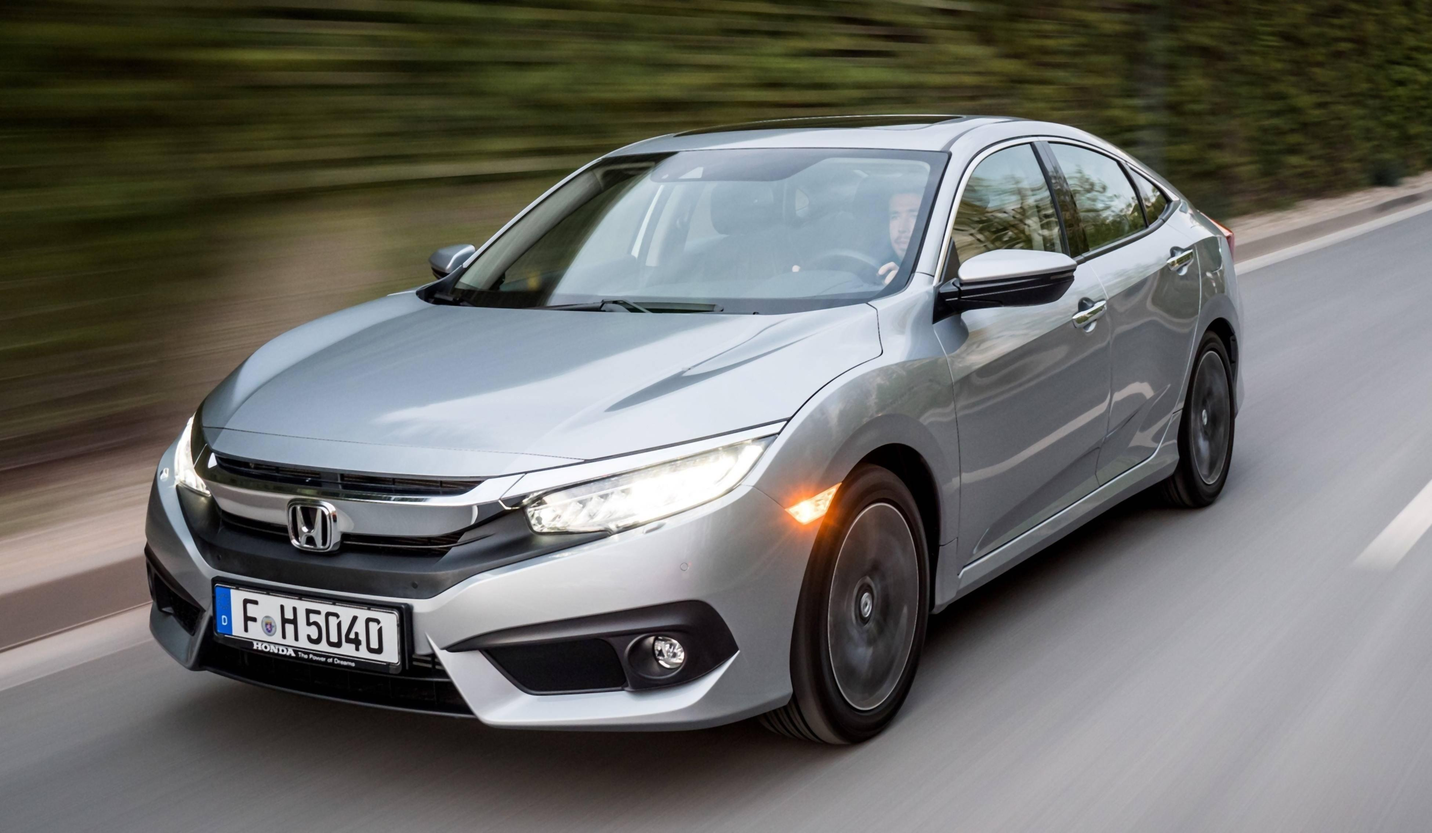Car hood: (195, 283, 885, 487)
Fender - -F-L-: (742, 267, 966, 552)
Fender - -R-L-: (1169, 190, 1239, 458)
Front bumper: (134, 490, 815, 745)
Headlight - -L-: (520, 424, 787, 543)
Headlight - -R-: (164, 404, 216, 507)
Passenger-s door - -F-L-: (953, 130, 1114, 575)
Passenger-s door - -R-L-: (1062, 129, 1208, 524)
Rear bumper: (1193, 196, 1243, 260)
Side bumper - -L-: (925, 404, 1204, 625)
Side mirror - -L-: (927, 237, 1082, 335)
Side mirror - -R-: (411, 233, 500, 292)
